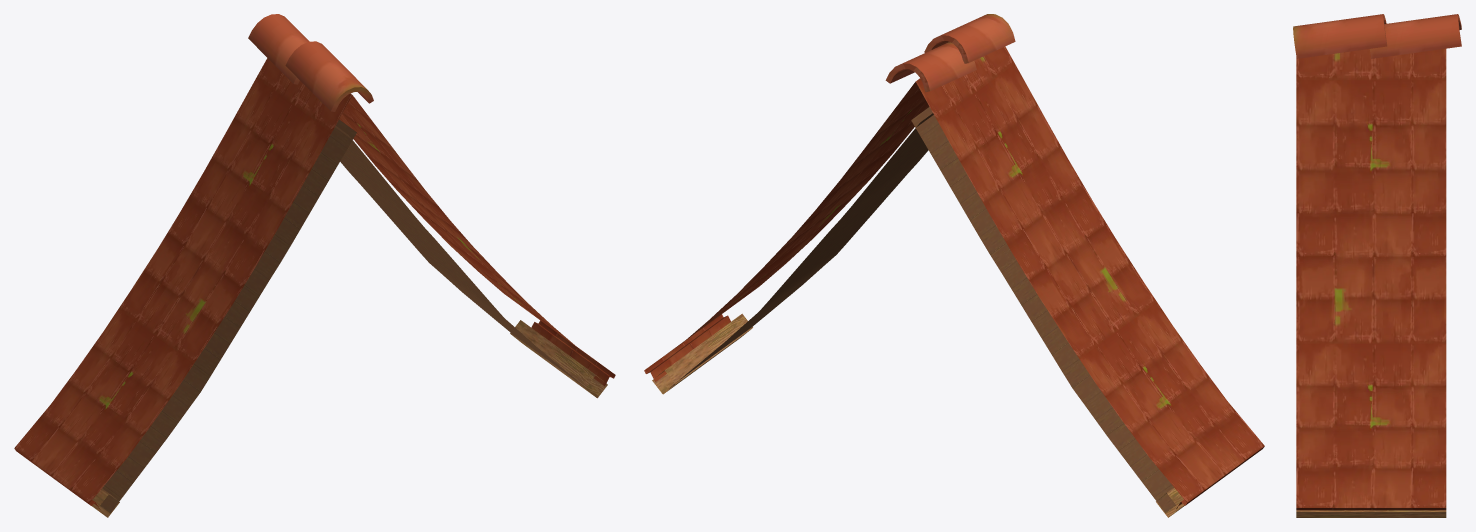
Rendered from Roof_Modular_FlatTiles_6_Mid.glb.
The picture shows the model from 3 angles, left to right: view 1: azimuth 30°, elevation 25°; view 2: azimuth 150°, elevation 25°; view 3: azimuth 270°, elevation 25°; orthographic projection. The views are drawn at different scales.
Parts seen in each view (by area): view 1: Roof_Modular_FlatTiles_6_Mid; view 2: Roof_Modular_FlatTiles_6_Mid; view 3: Roof_Modular_FlatTiles_6_Mid.
Part boxes in pixels (box(x1,y1,x2,y2)): Roof_Modular_FlatTiles_6_Mid: box(14, 14, 615, 517); Roof_Modular_FlatTiles_6_Mid: box(644, 14, 1264, 517); Roof_Modular_FlatTiles_6_Mid: box(1293, 14, 1461, 517).
Size of the model in its own units: 8.07 by 5.63 by 2.25.
Materials: 3 (3 with a texture image).
